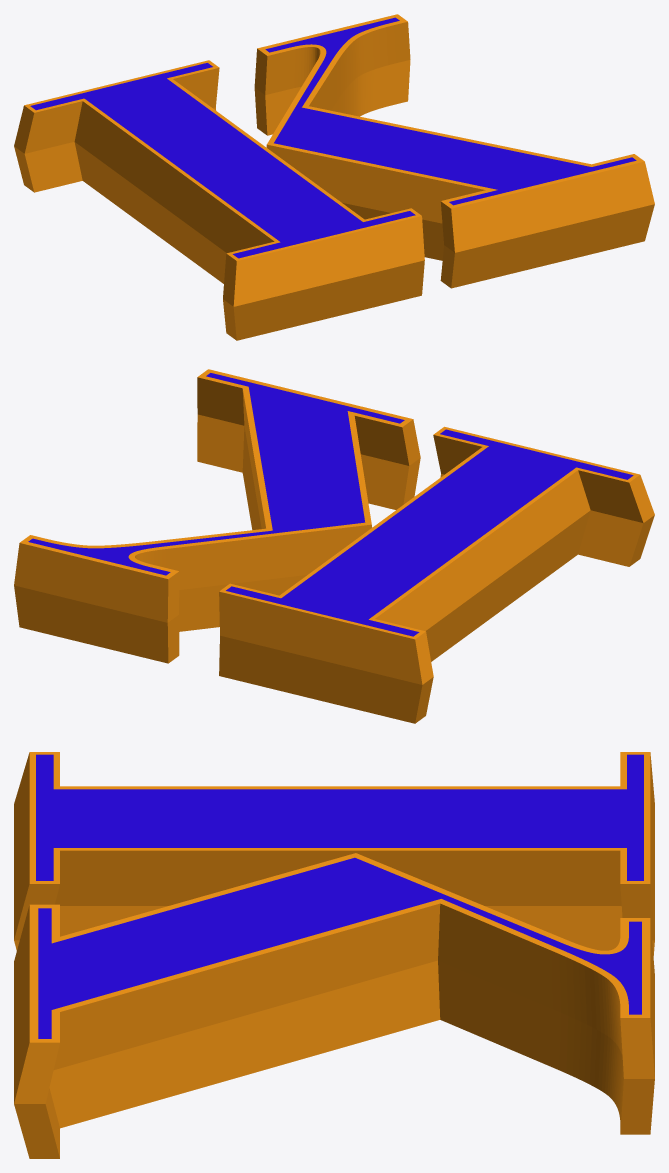
3 views of the same model, one above another, from view 1: azimuth 30°, elevation 25°; view 2: azimuth 150°, elevation 25°; view 3: azimuth 270°, elevation 25° (orthographic). The views are drawn at different scales.
Parts seen in each view (by area): view 1: Text; view 2: Text; view 3: Text.
Boxes of the visible parts, x1=… form: Text: x1=14, y1=14, x2=654, y2=340; Text: x1=14, y1=369, x2=654, y2=723; Text: x1=14, y1=752, x2=654, y2=1158.
Size of the model in its own units: 63.77 by 11.54 by 57.59.
